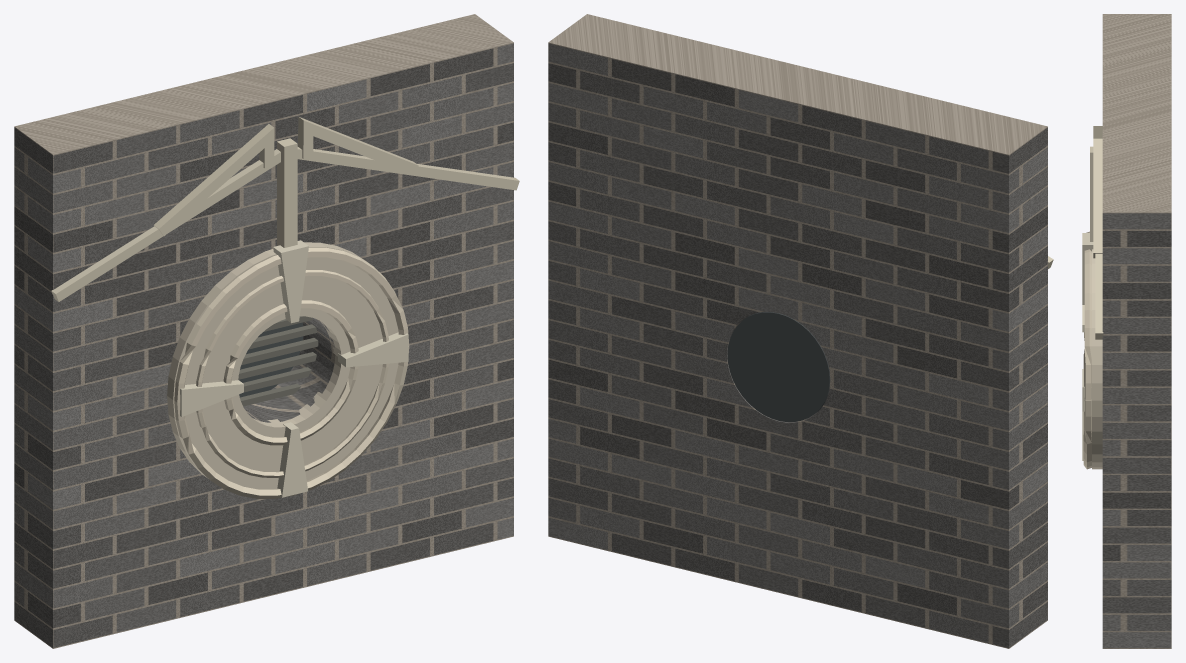
Rendered from swiss-consulate-louvred-oculus-far.glb.
3 views of the same model, side by side, from view 1: azimuth 30°, elevation 25°; view 2: azimuth 150°, elevation 25°; view 3: azimuth 270°, elevation 25° (orthographic). The views are drawn at different scales.
Visible parts, largest first — view 1: 瑞士国总领事馆旧址阁楼百叶圆窗与石饰圈; view 2: 瑞士国总领事馆旧址阁楼百叶圆窗与石饰圈; view 3: 瑞士国总领事馆旧址阁楼百叶圆窗与石饰圈.
Part boxes in pixels (<box>): 瑞士国总领事馆旧址阁楼百叶圆窗与石饰圈: <box>14,14,519,648</box>; 瑞士国总领事馆旧址阁楼百叶圆窗与石饰圈: <box>548,14,1053,648</box>; 瑞士国总领事馆旧址阁楼百叶圆窗与石饰圈: <box>1082,14,1171,648</box>.
Bounding box in the file's own units: 2.48 × 2.52 × 0.467.
Materials: 7 (1 with a texture image).
